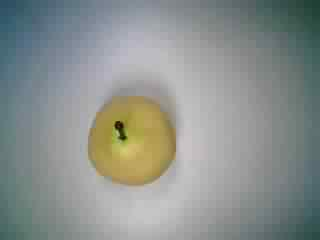pear: (73, 90, 182, 192)
